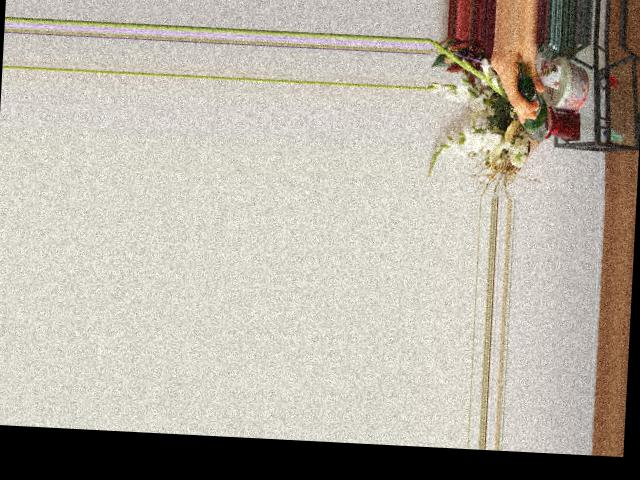beer: (515, 75, 551, 141)
